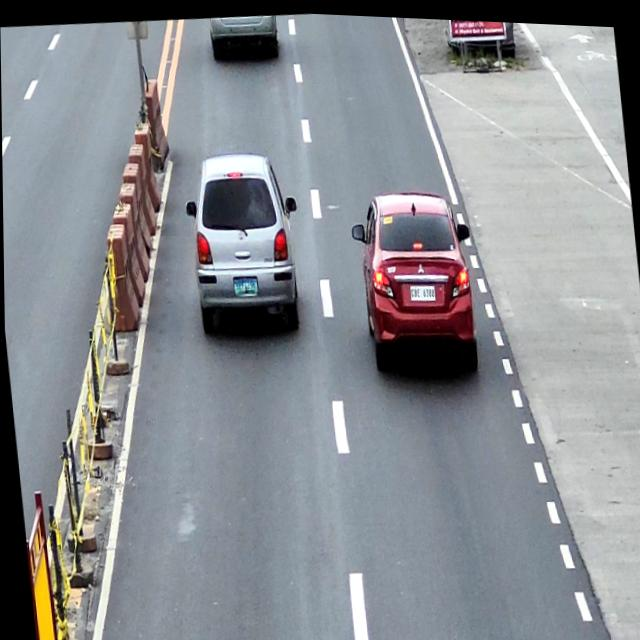Car: (347, 179, 484, 378), (179, 145, 307, 338), (208, 10, 280, 62)
License-Plate: (232, 275, 258, 294), (408, 280, 434, 298)
